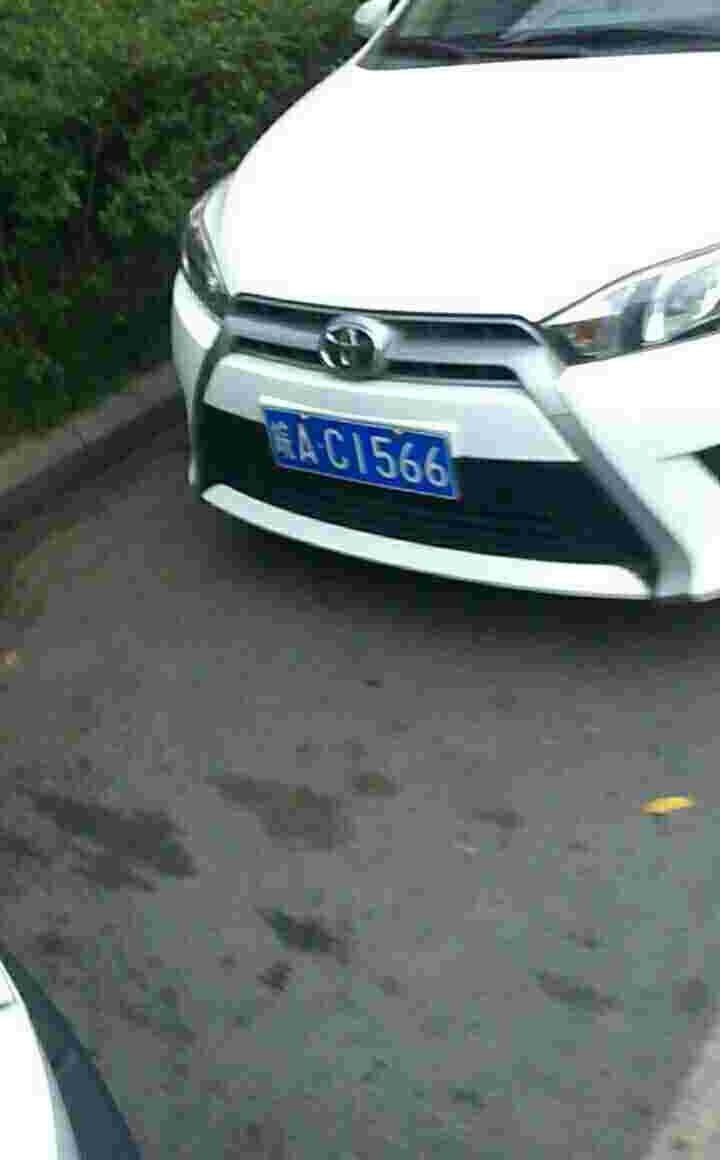license_plate: (261, 409, 460, 487)
